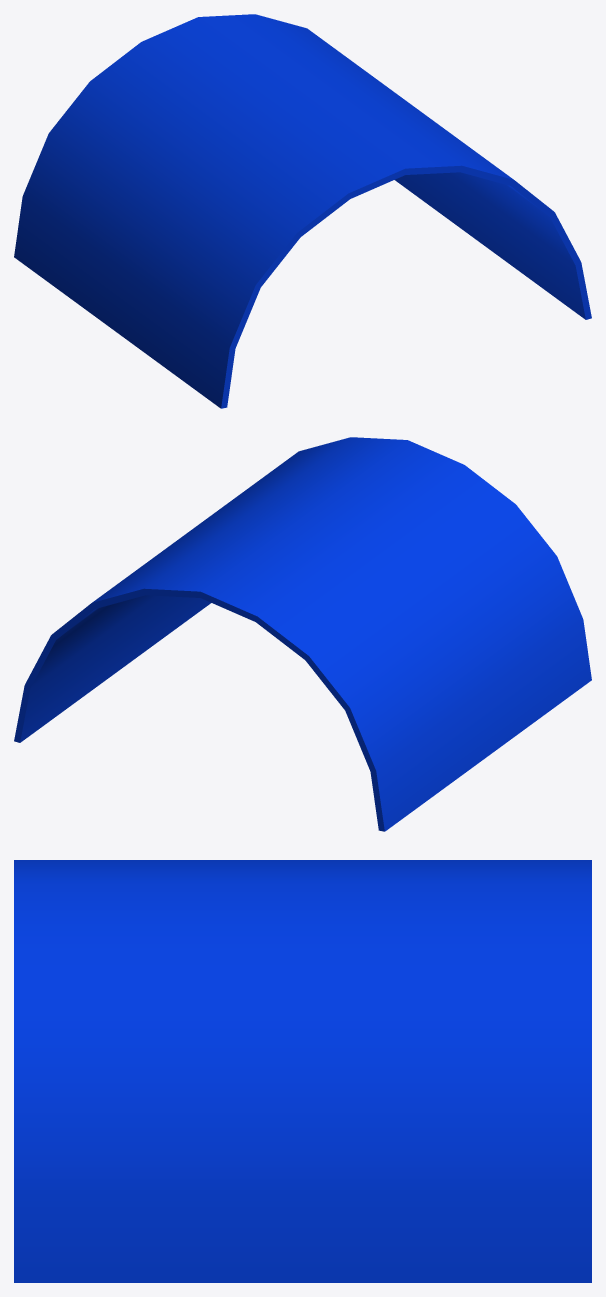
Rendered from Arch_Small_01.fbx.
3 renders of one model, top to bottom at view 1: azimuth 30°, elevation 25°; view 2: azimuth 150°, elevation 25°; view 3: azimuth 270°, elevation 25°, orthographic. The views are drawn at different scales.
Visible parts, largest first — view 1: Arch_Small_01; view 2: Arch_Small_01; view 3: Arch_Small_01.
Part boxes in pixels (x1,y1,x2,y2): Arch_Small_01: (14, 14, 591, 408); Arch_Small_01: (14, 437, 591, 831); Arch_Small_01: (14, 860, 591, 1282).
Bounding box in the file's own units: 310 × 156 × 300.
